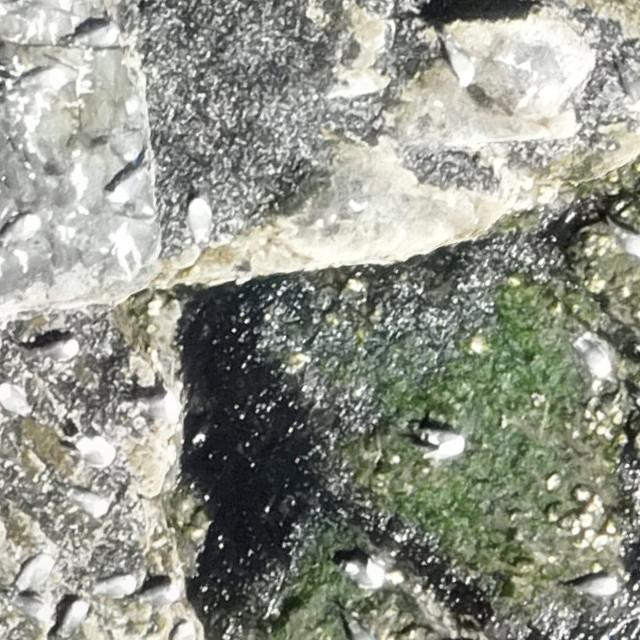umineko: (106, 162, 153, 208), (16, 558, 52, 596), (2, 214, 41, 247), (74, 437, 116, 467), (67, 489, 107, 519), (78, 23, 118, 52), (343, 561, 382, 590), (426, 427, 463, 456), (450, 48, 479, 80), (583, 337, 608, 374), (61, 596, 89, 629), (134, 390, 178, 411), (28, 69, 62, 96), (145, 580, 180, 606), (4, 387, 34, 417), (38, 337, 78, 359), (189, 192, 209, 235), (623, 66, 640, 115), (614, 225, 640, 257), (15, 599, 49, 620), (100, 579, 135, 598), (578, 575, 613, 594), (352, 624, 374, 640)
